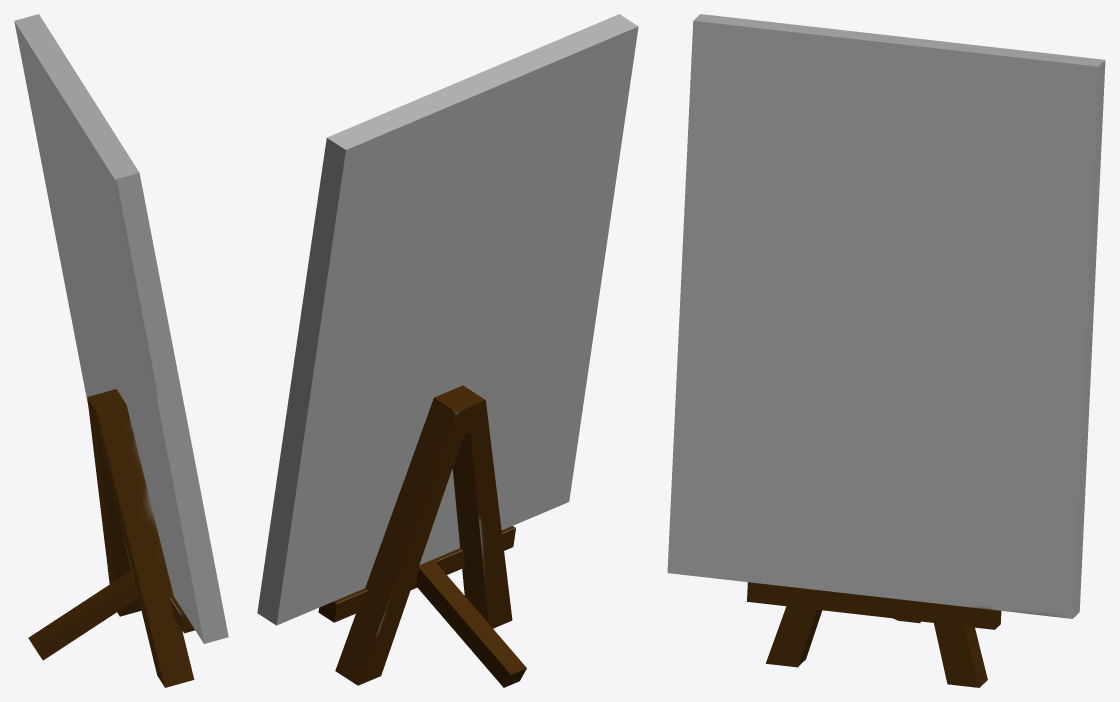
The model's file is UpgradeBoard.fbx.
3 views of the same model, side by side, from view 1: azimuth 30°, elevation 25°; view 2: azimuth 150°, elevation 25°; view 3: azimuth 270°, elevation 25° (orthographic). The views are drawn at different scales.
Visible parts, largest first — view 1: UpgradeBoard; view 2: UpgradeBoard; view 3: UpgradeBoard.
Boxes of the visible parts, x1,y1,x2,y2 form: UpgradeBoard: (14, 14, 228, 687); UpgradeBoard: (257, 14, 638, 687); UpgradeBoard: (667, 14, 1105, 687).
Bounding box in the file's own units: 165 × 475 × 313.
